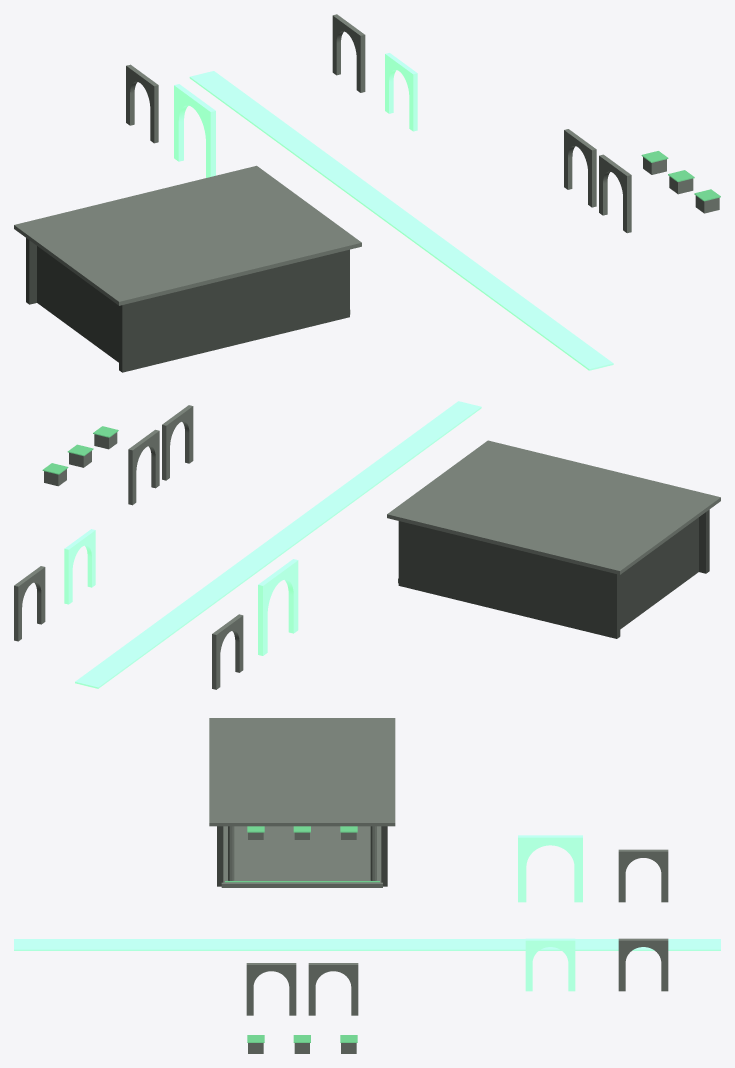
The model's file is esplanade.glb.
3 renders of one model, top to bottom at view 1: azimuth 30°, elevation 25°; view 2: azimuth 150°, elevation 25°; view 3: azimuth 270°, elevation 25°, orthographic. The views are drawn at different scales.
Visible parts, largest first — view 1: esplanade-006, esplanade-005, esplanade-000, esplanade-003, esplanade-027, esplanade-030, esplanade-025, esplanade-028, esplanade-029, esplanade-026, esplanade-004; view 2: esplanade-006, esplanade-004, esplanade-000, esplanade-003, esplanade-027, esplanade-029, esplanade-026, esplanade-028, esplanade-025, esplanade-030, esplanade-005; view 3: esplanade-006, esplanade-001, esplanade-000, esplanade-027, esplanade-028, esplanade-030, esplanade-029, esplanade-025, esplanade-026.
Part boxes in pixels (x1,y1,x2,y2): esplanade-006: (14,165,361,305); esplanade-005: (119,249,349,372); esplanade-000: (189,71,613,370); esplanade-003: (37,246,135,370); esplanade-027: (174,84,215,177); esplanade-030: (332,14,365,92); esplanade-025: (599,154,631,233); esplanade-028: (385,53,417,131); esplanade-029: (126,64,158,143); esplanade-026: (564,129,596,207); esplanade-004: (26,238,36,304); esplanade-006: (387,440,720,574); esplanade-004: (398,521,620,638); esplanade-000: (75,401,481,688); esplanade-003: (604,517,698,636); esplanade-027: (258,559,298,655); esplanade-029: (212,614,243,689); esplanade-026: (128,429,159,505); esplanade-028: (64,529,95,604); esplanade-025: (162,405,193,480); esplanade-030: (14,566,45,641); esplanade-005: (699,509,709,573); esplanade-006: (209,718,395,826); esplanade-001: (221,826,382,887); esplanade-000: (14,939,720,950); esplanade-027: (518,835,582,902); esplanade-028: (525,938,575,991); esplanade-030: (618,938,668,991); esplanade-029: (618,849,668,902); esplanade-025: (246,963,296,1015); esplanade-026: (308,963,358,1015).
Size of the model in its own units: 41.06 by 4.78 by 45.6.
